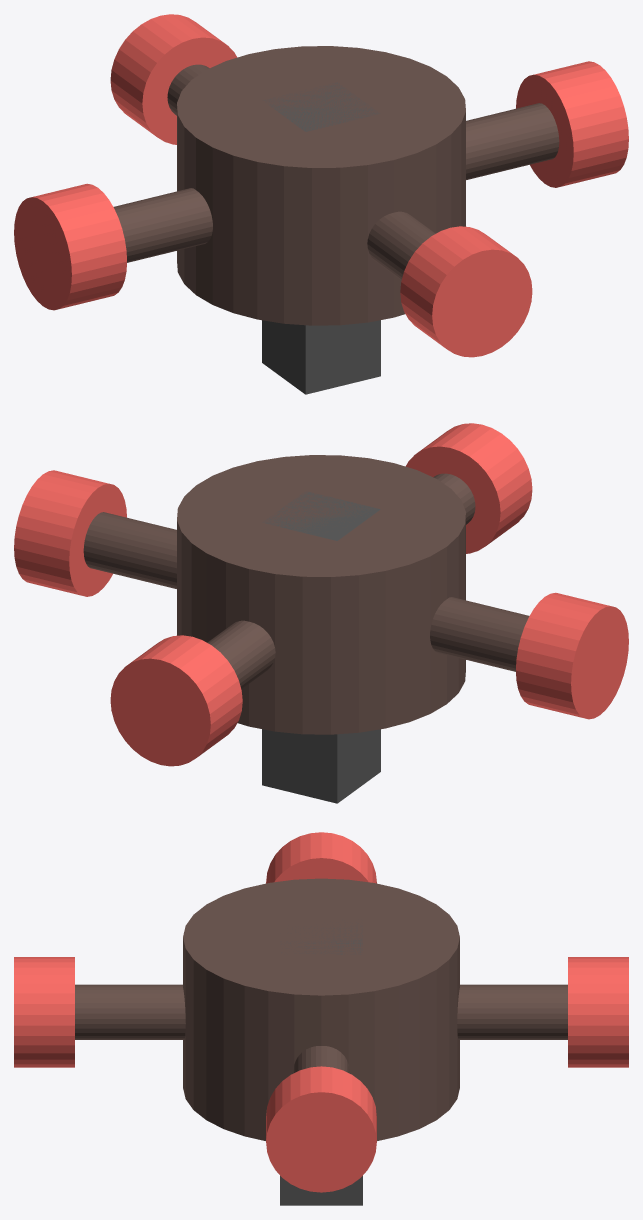
The model's file is button3.glb.
The picture shows the model from 3 angles, top to bottom: view 1: azimuth 30°, elevation 25°; view 2: azimuth 150°, elevation 25°; view 3: azimuth 270°, elevation 25°; orthographic projection. The views are drawn at different scales.
Parts seen in each view (by area): view 1: 柱体, 柱体.005, 柱体.007, Cube, 柱体.006, 柱体.008, 柱体.003, 柱体.002, 柱体.004, 柱体.001; view 2: 柱体, 柱体.008, 柱体.007, Cube, 柱体.006, 柱体.005, 柱体.003, 柱体.002, 柱体.001, 柱体.004; view 3: 柱体, 柱体.006, 柱体.005, 柱体.008, 柱体.001, 柱体.004, 柱体.007, Cube, 柱体.003.
Boxes of the visible parts, box(x1,y1,x2,y2) form: 柱体: box(177, 46, 465, 325); 柱体.005: box(400, 226, 532, 357); 柱体.007: box(14, 183, 126, 310); Cube: box(262, 82, 380, 394); 柱体.006: box(516, 61, 628, 187); 柱体.008: box(110, 14, 237, 144); 柱体.003: box(466, 103, 559, 179); 柱体.002: box(113, 188, 212, 262); 柱体.004: box(367, 211, 435, 279); 柱体.001: box(167, 64, 209, 115); 柱体: box(177, 455, 465, 734); 柱体.008: box(110, 635, 242, 766); 柱体.007: box(516, 592, 628, 719); Cube: box(262, 491, 380, 803); 柱体.006: box(14, 470, 126, 596); 柱体.005: box(405, 423, 532, 553); 柱体.003: box(83, 512, 176, 588); 柱体.002: box(430, 597, 529, 671); 柱体.001: box(207, 620, 275, 688); 柱体.004: box(433, 473, 475, 524); 柱体: box(183, 878, 459, 1140); 柱体.006: box(266, 1066, 376, 1192); 柱体.005: box(14, 957, 74, 1067); 柱体.008: box(568, 957, 628, 1067); 柱体.001: box(457, 984, 567, 1039); 柱体.004: box(75, 984, 185, 1039); 柱体.007: box(266, 832, 376, 883); Cube: box(280, 922, 362, 1205); 柱体.003: box(293, 1046, 349, 1072).
Bounding box in the file's own units: 2.22 × 1 × 2.22.
